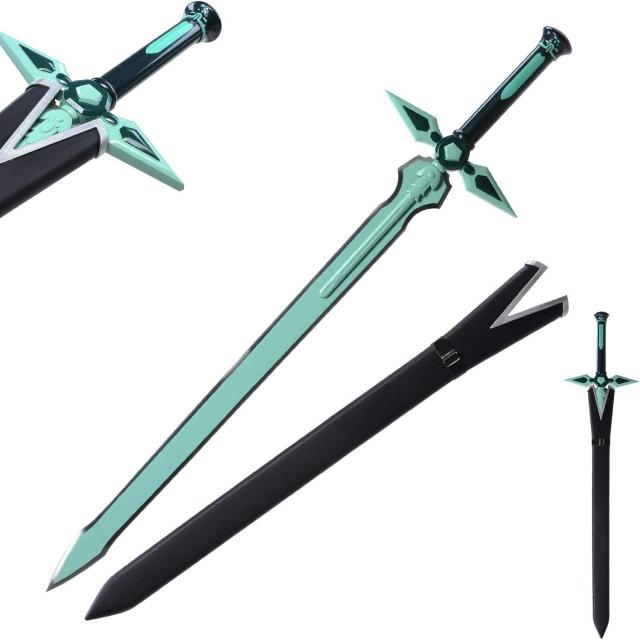weapon: (41, 21, 579, 600), (568, 311, 638, 640)
